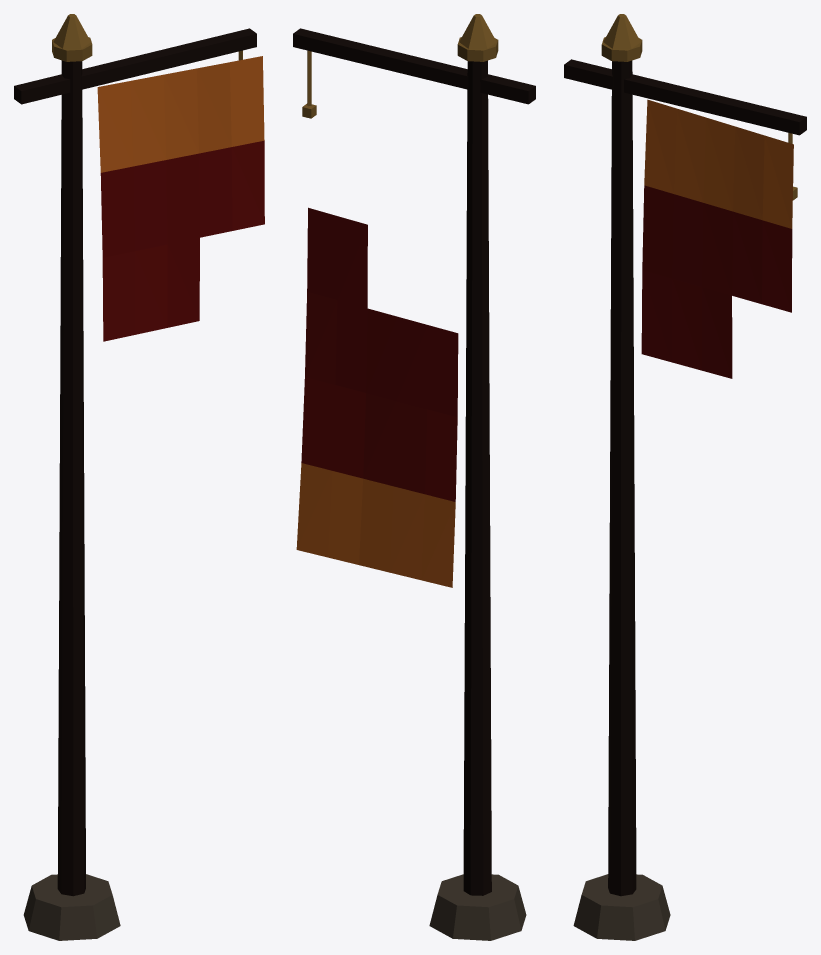
Rendered from banner.glb.
3 views of the same model, side by side, from view 1: azimuth 30°, elevation 25°; view 2: azimuth 150°, elevation 25°; view 3: azimuth 330°, elevation 25° (orthographic).
Visible parts, largest first — view 1: cloth, banner_body; view 2: cloth, banner_body; view 3: cloth, banner_body.
Part boxes in pixels (x1,y1,x2,y2): cloth: (97, 56, 264, 341); banner_body: (14, 14, 256, 940); cloth: (296, 207, 458, 587); banner_body: (293, 14, 535, 940); cloth: (641, 99, 793, 378); banner_body: (564, 14, 806, 940).
Size of the model in its own units: 1.3 by 4.77 by 0.48.
